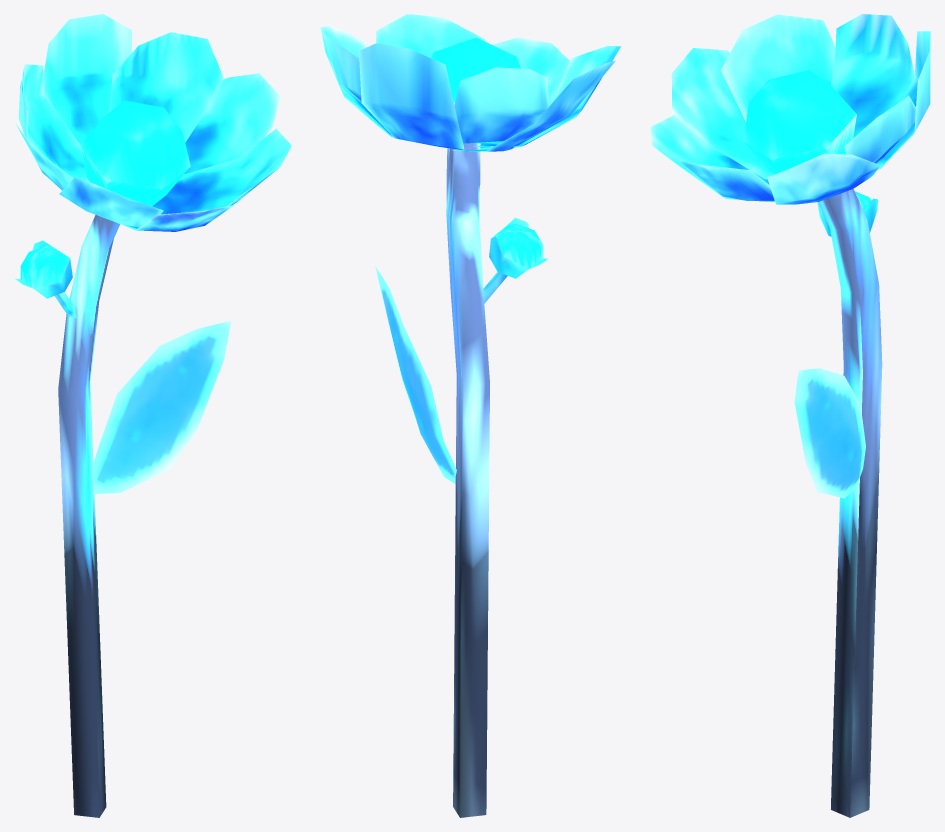
File: EmissiveFlower1.fbx
3 views of the same model, side by side, from view 1: azimuth 30°, elevation 25°; view 2: azimuth 150°, elevation 25°; view 3: azimuth 270°, elevation 25° (orthographic). The views are drawn at different scales.
Visible parts, largest first — view 1: EmissiveFlower1_LOD0; view 2: EmissiveFlower1_LOD0; view 3: EmissiveFlower1_LOD0.
Part boxes in pixels (bbox=[...]): EmissiveFlower1_LOD0: bbox=[14, 14, 291, 817]; EmissiveFlower1_LOD0: bbox=[320, 14, 621, 817]; EmissiveFlower1_LOD0: bbox=[650, 14, 930, 817].
Size of what is drawn, in the model's own units: 0.1808 by 0.5085 by 0.1639.
Materials: 1 (1 with a texture image).
